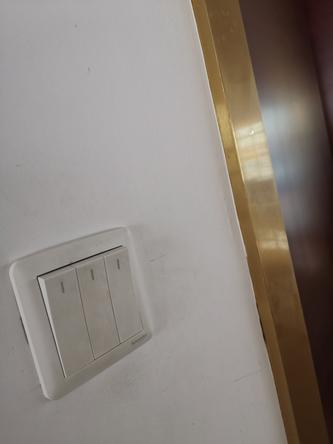switch: (26, 255, 94, 382), (71, 249, 120, 367), (99, 241, 151, 346)
